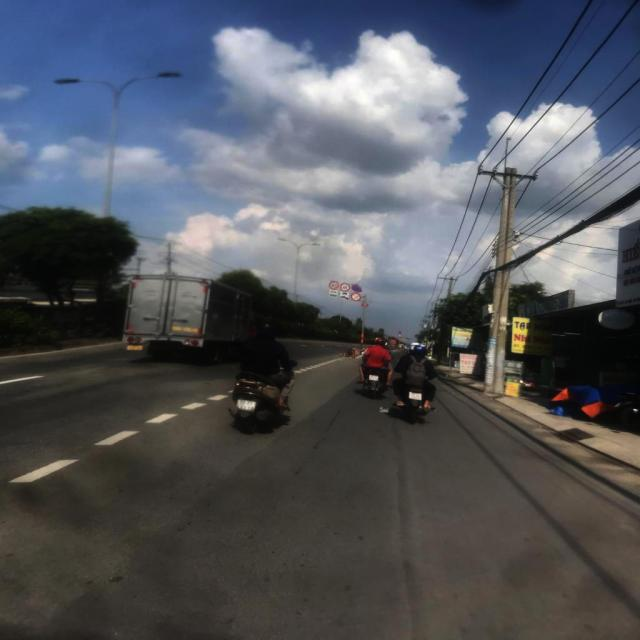cam_dung_xe_va_do_xe: (351, 284, 362, 292)
cam_xe_2_banh_va_xe_3_banh_co_dong_co: (351, 292, 361, 302)
khac: (329, 289, 338, 294), (340, 295, 349, 300), (329, 293, 337, 298), (340, 292, 350, 296)
toc_do_toi_da_60: (340, 283, 351, 292)
toc_do_toi_da_80: (329, 281, 339, 290)
